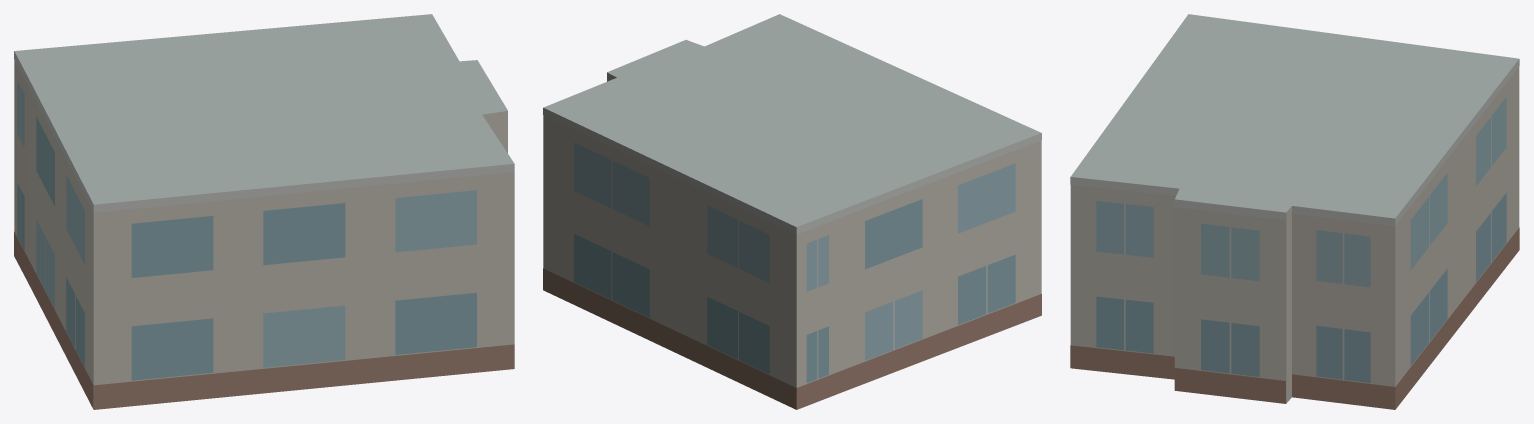
The model's file is survey-upis-32961593.glb.
3 renders of one model, left to right at view 1: azimuth 30°, elevation 25°; view 2: azimuth 150°, elevation 25°; view 3: azimuth 270°, elevation 25°, orthographic. The views are drawn at different scales.
Parts seen in each view (by area): view 1: survey-upis-32961593.tmp; view 2: survey-upis-32961593.tmp; view 3: survey-upis-32961593.tmp.
Boxes of the visible parts, x1,y1,x2,y2 form: survey-upis-32961593.tmp: [14, 14, 514, 409]; survey-upis-32961593.tmp: [543, 14, 1041, 409]; survey-upis-32961593.tmp: [1070, 14, 1519, 409].
Bounding box in the file's own units: 13.99 × 6.1 × 12.98.
